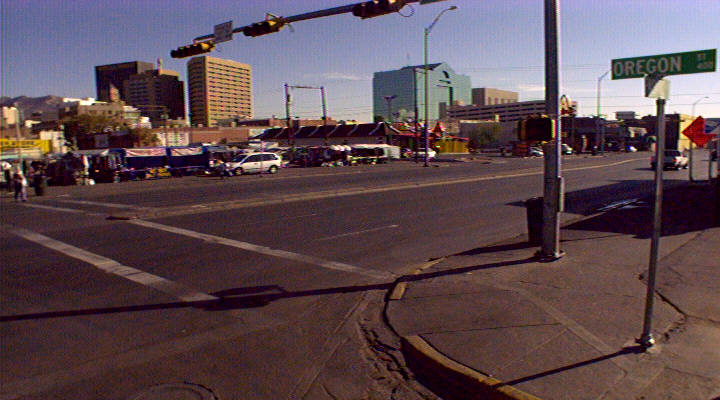Ramp: (376, 259, 565, 384)
